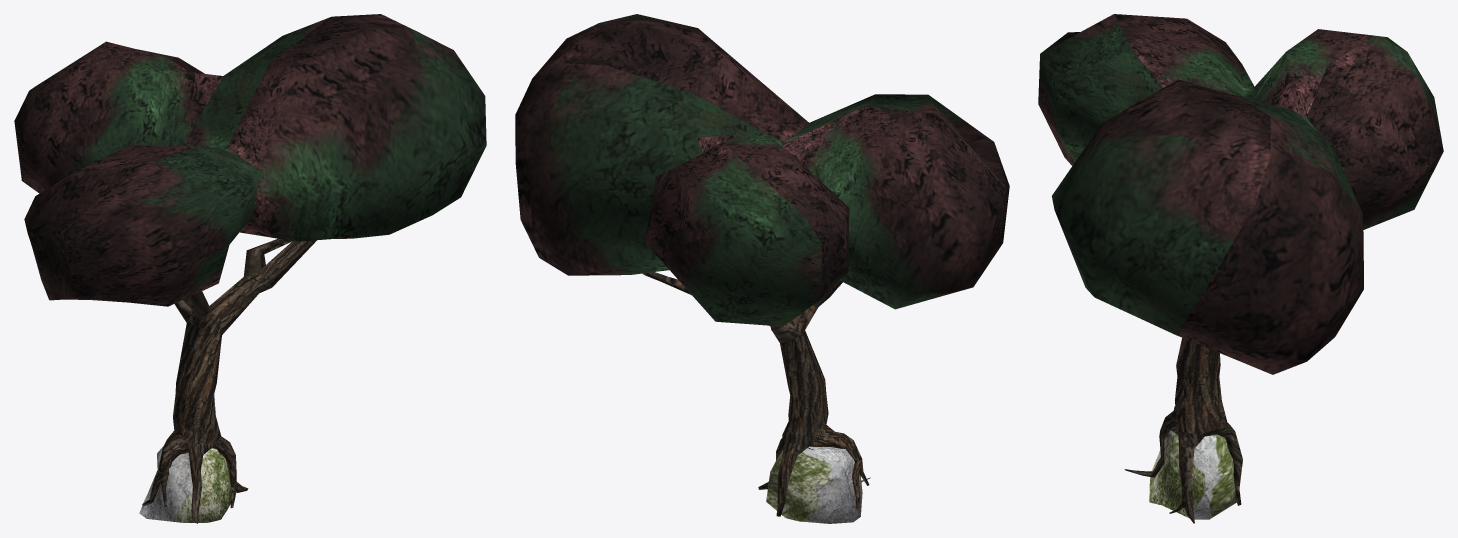
The model's file is Roble_Finish_002_Rigg_LOD_Version_002.fbx.
3 renders of one model, left to right at view 1: azimuth 30°, elevation 25°; view 2: azimuth 150°, elevation 25°; view 3: azimuth 270°, elevation 25°, orthographic. The views are drawn at different scales.
Parts seen in each view (by area): view 1: Roble_LOD0; view 2: Roble_LOD0; view 3: Roble_LOD0.
Part boxes in pixels (x1,y1,x2,y2): Roble_LOD0: (14, 14, 486, 523); Roble_LOD0: (515, 14, 1009, 523); Roble_LOD0: (1038, 14, 1443, 523).
Size of what is drawn, in the model's own units: 410 by 391 by 292.
